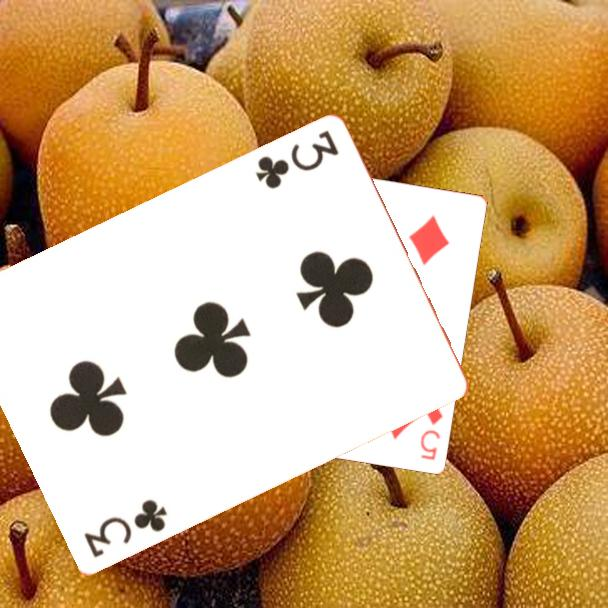c03: (251, 127, 342, 193), (80, 496, 170, 562)
d05: (416, 401, 446, 462)
